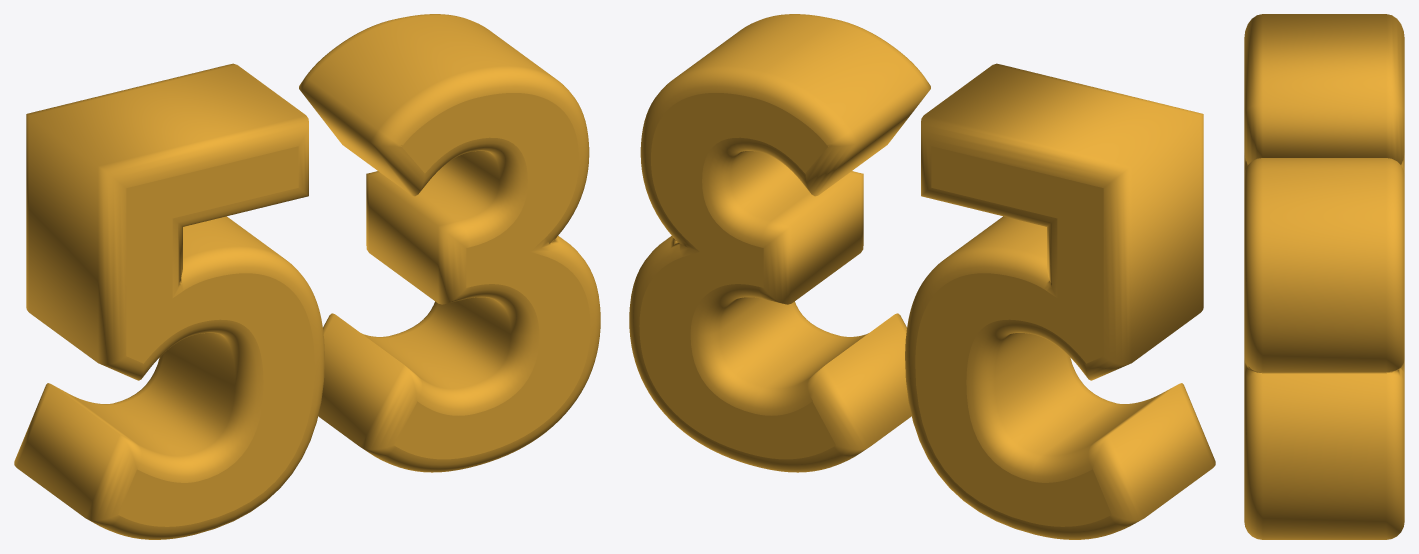
3 renders of one model, left to right at view 1: azimuth 30°, elevation 25°; view 2: azimuth 150°, elevation 25°; view 3: azimuth 270°, elevation 25°, orthographic. The views are drawn at different scales.
Visible parts, largest first — view 1: Text; view 2: Text; view 3: Text.
Part boxes in pixels (x1=…): Text: x1=14, y1=14, x2=600, y2=539; Text: x1=629, y1=14, x2=1215, y2=539; Text: x1=1244, y1=14, x2=1404, y2=539.
Bounding box in the file's own units: 85.68 × 63.02 × 26.
